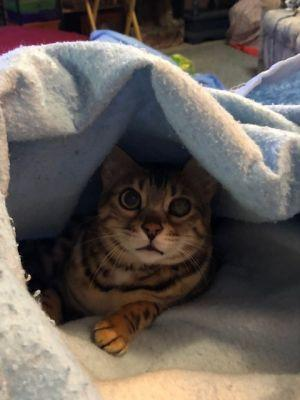bengal: (95, 145, 221, 277)
